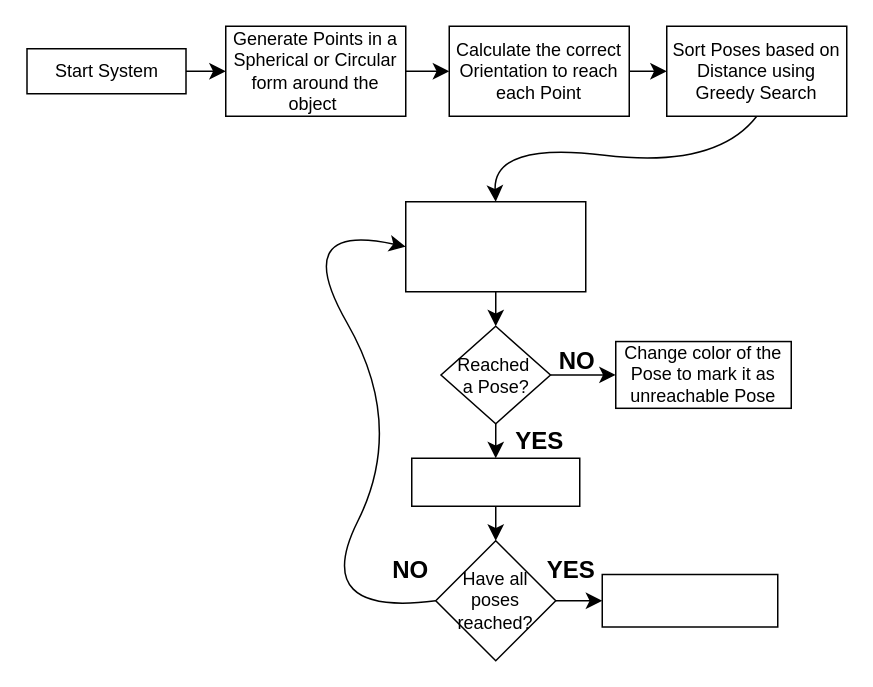
The diagram is 873 pixels wide and 687 high, and some of its shapes have lost their labels. The shapes that lost their labels are listed below. From the top down, each one's box as (x1, y1, x2, y2) in pixels, then its label:
(404, 200, 586, 292): Reach Poses Sequentially by Proximity
(410, 457, 580, 506): Capture an image, and save it
(601, 573, 778, 627): Go back to Home Position (Eva Arm)
